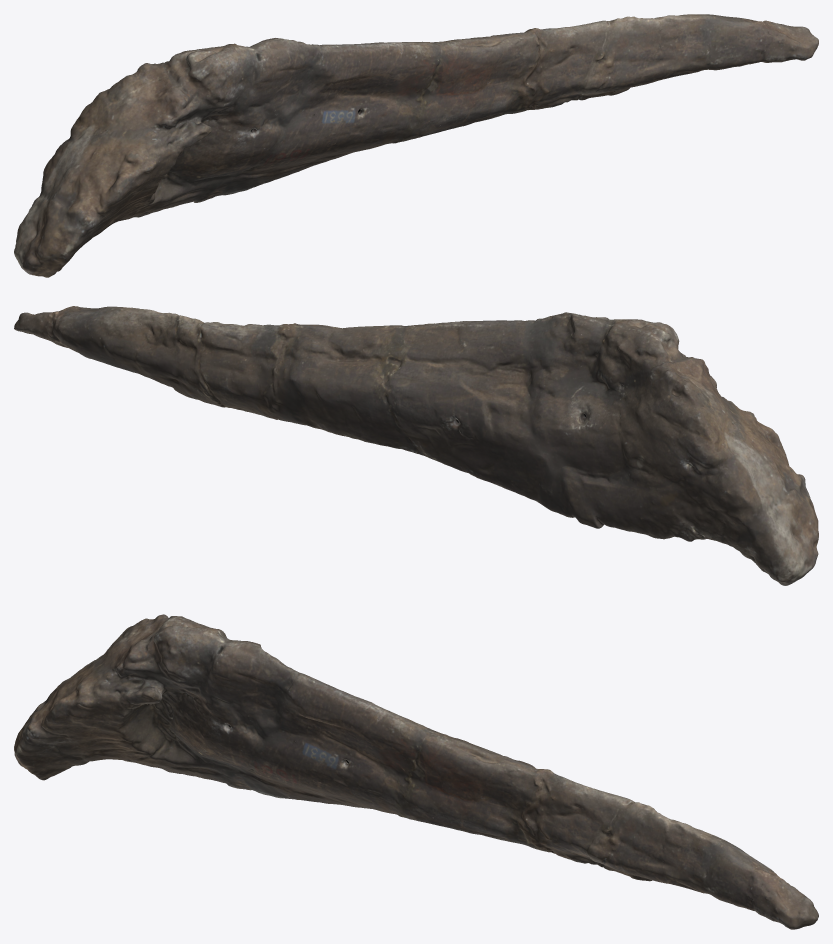
The model's file is stegosaurus_stenops_usnm_b.glb.
3 views of the same model, one above another, from view 1: azimuth 30°, elevation 25°; view 2: azimuth 150°, elevation 25°; view 3: azimuth 330°, elevation 25° (orthographic). The views are drawn at different scales.
Parts seen in each view (by area): view 1: Stegosaurus_stenops_Marsh__1887-150k; view 2: Stegosaurus_stenops_Marsh__1887-150k; view 3: Stegosaurus_stenops_Marsh__1887-150k.
Part boxes in pixels (box(x1,y1,x2,y2)): Stegosaurus_stenops_Marsh__1887-150k: box(14, 14, 818, 277); Stegosaurus_stenops_Marsh__1887-150k: box(14, 306, 818, 585); Stegosaurus_stenops_Marsh__1887-150k: box(14, 614, 818, 929).
Size of the model in its own units: 0.3668 by 0.0896 by 0.047.
Materials: 1 (1 with a texture image).
